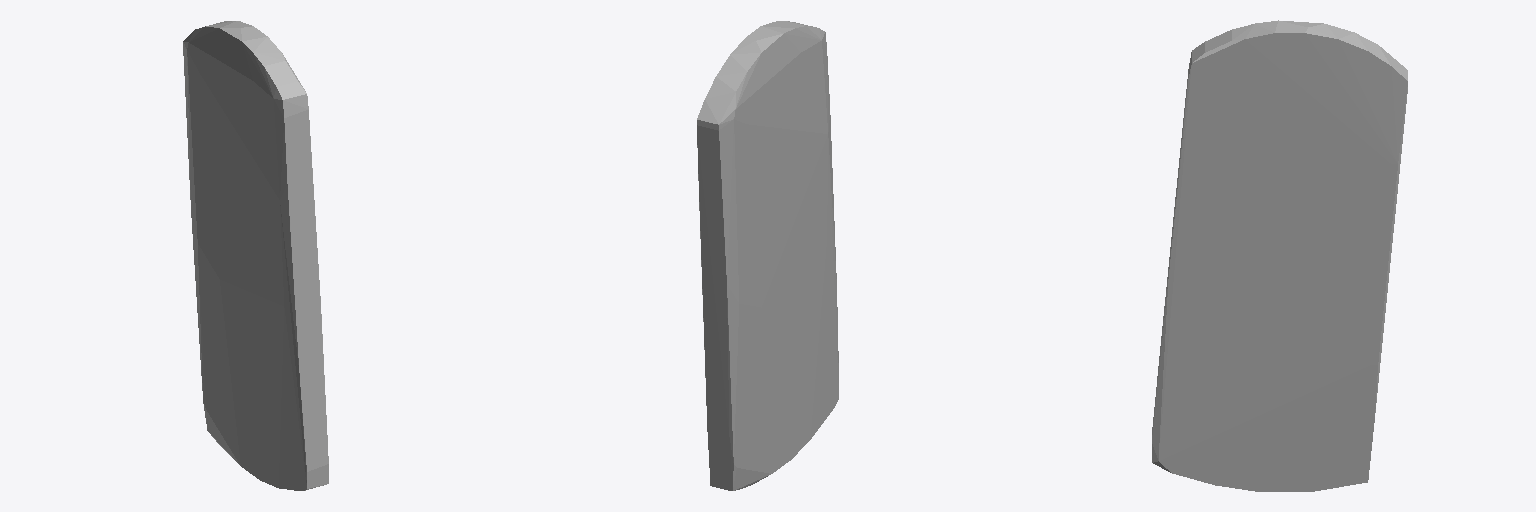
URDF robot description (root):
<robot name="root">
  <link name="link_d725f281dd89b828d03cf8c722f35752_convex_piece_0">
    <inertial>
      <origin rpy="0 0 0" xyz="0 0 0"/>
      <mass value="1.45E-05"/>
      <inertia ixx="1.06E-08" ixy="-3.38E-12" ixz="-1.56E-10" iyy="8.82E-09" iyz="6.42E-10" izz="1.88E-09"/>
    </inertial>
    <visual>
      <origin rpy="0 0 0" xyz="0 0 0"/>
      <geometry>
        <mesh filename="d725f281dd89b828d03cf8c722f35752_convex_piece_0.obj" scale="1.0000E+00"/>
      </geometry>
      <material name="">
        <color rgba="7.50E-01 7.50E-01 7.50E-01 1"/>
      </material>
    </visual>
    <collision>
      <origin rpy="0 0 0" xyz="0 0 0"/>
      <geometry>
        <mesh filename="d725f281dd89b828d03cf8c722f35752_convex_piece_0.obj" scale="1.0000E+00"/>
      </geometry>
    </collision>
  </link>
</robot>

--- Render facts (derived) ---
Views: 3 orthographic renders of the robot side by side, from view 1: azimuth 30°, elevation 25°; view 2: azimuth 150°, elevation 25°; view 3: azimuth 270°, elevation 25°.
Robot: root — 1 links, 0 joints (none); root link link_d725f281dd89b828d03cf8c722f35752_convex_piece_0; default pose: all joints at 0.
Visible links, largest first — view 1: link_d725f281dd89b828d03cf8c722f35752_convex_piece_0; view 2: link_d725f281dd89b828d03cf8c722f35752_convex_piece_0; view 3: link_d725f281dd89b828d03cf8c722f35752_convex_piece_0.
Link boxes in pixels (bbox=[...]): link_d725f281dd89b828d03cf8c722f35752_convex_piece_0: bbox=[183, 21, 328, 490]; link_d725f281dd89b828d03cf8c722f35752_convex_piece_0: bbox=[697, 21, 838, 490]; link_d725f281dd89b828d03cf8c722f35752_convex_piece_0: bbox=[1152, 20, 1407, 491].
Size in the robot's own frame: 0.0071 by 0.0458 by 0.0899 metres.
Meshes: 1 distinct files referenced, 1 mesh visuals loaded (1 OBJ).